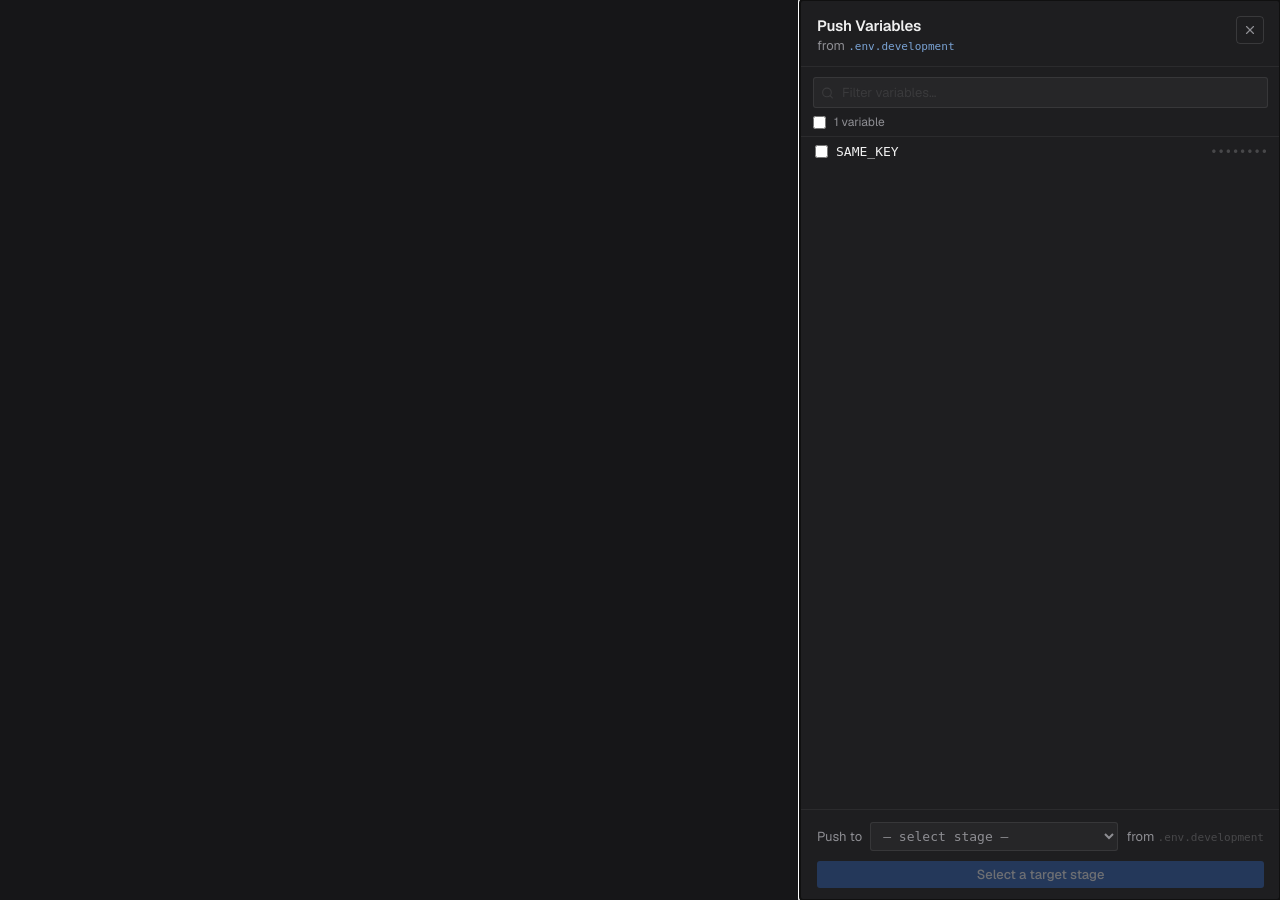
Test case: PushToStagePanel › Stage selection + conflict detection › conflictSame badge appears for identical vars
Select ".env.staging (empty)" in the dropdown with test id "stage-selector" at point(994, 836), box [870,822,1118,851]
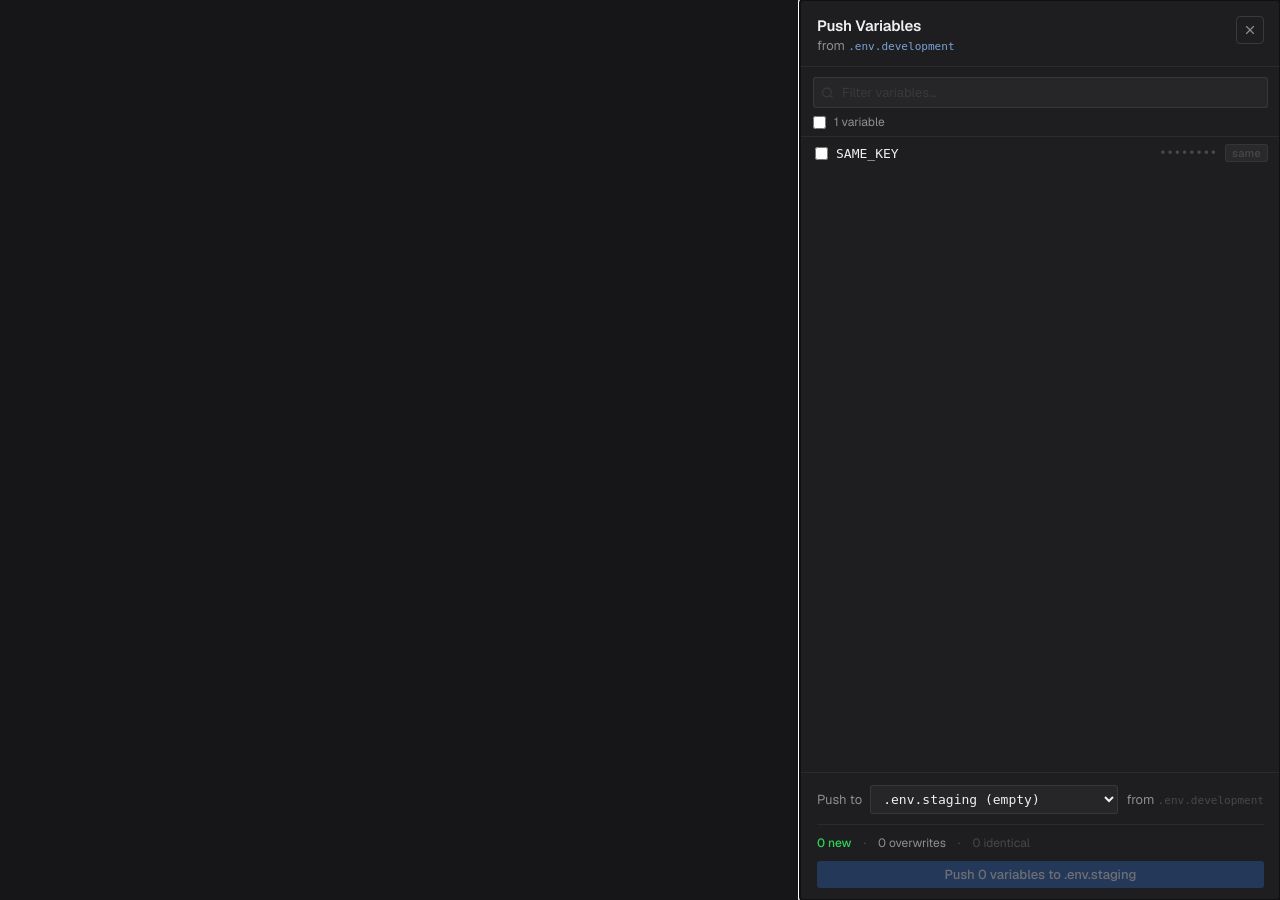
Expected: the text "same" is shown, [1225,144,1268,162]
